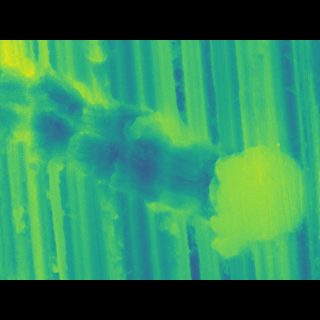Loch: (0, 75, 317, 237)
